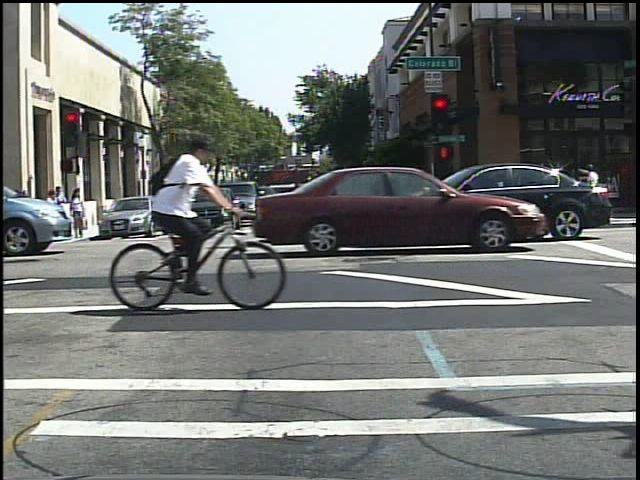person: (153, 125, 234, 303), (584, 159, 610, 224)
